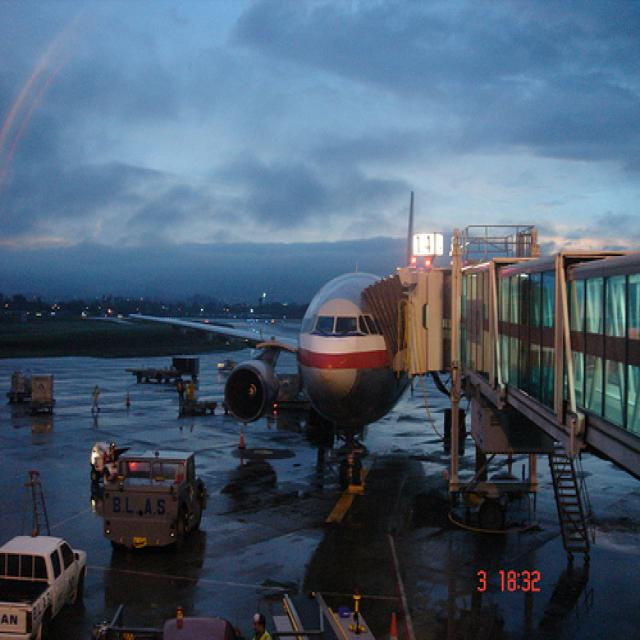Vehicle: (88, 446, 208, 565), (0, 534, 87, 640)
